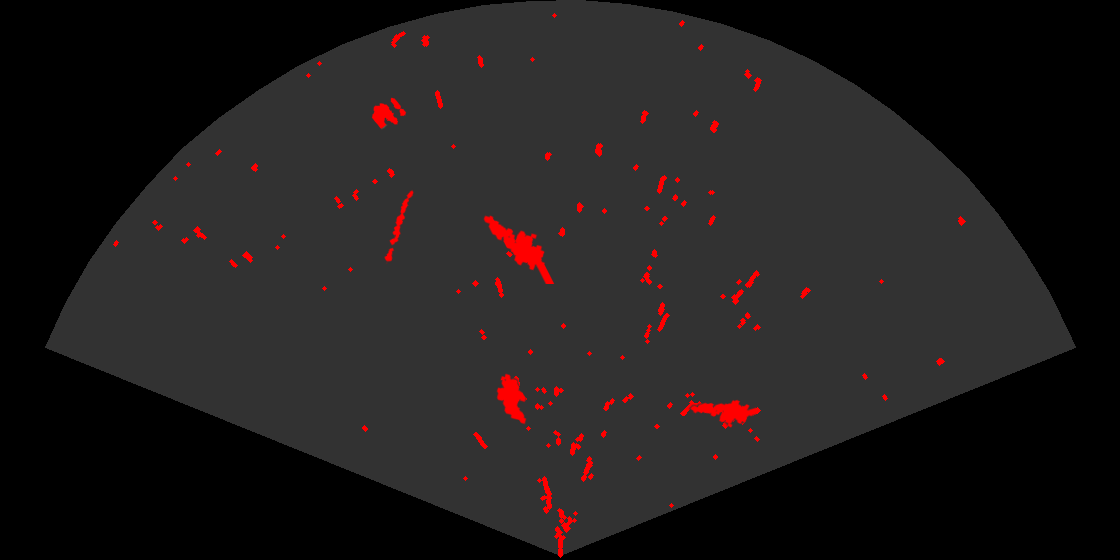AUV: (495, 372, 528, 426)
ball: (370, 96, 408, 130)
chain: (383, 188, 415, 264)
frogman: (482, 214, 556, 284), (688, 398, 756, 429)
